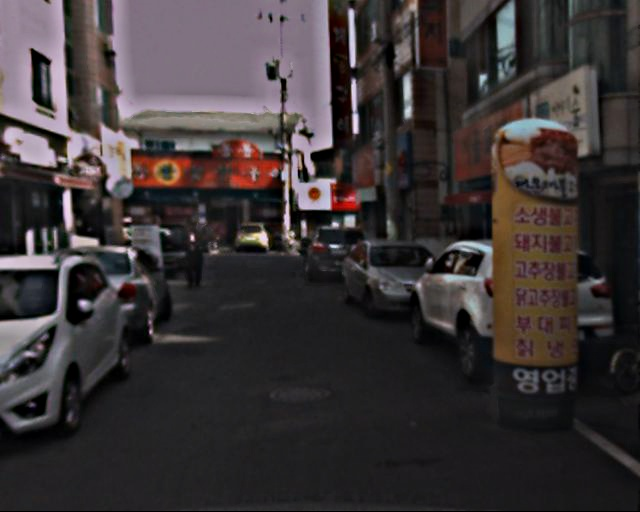person: (180, 218, 210, 288)
